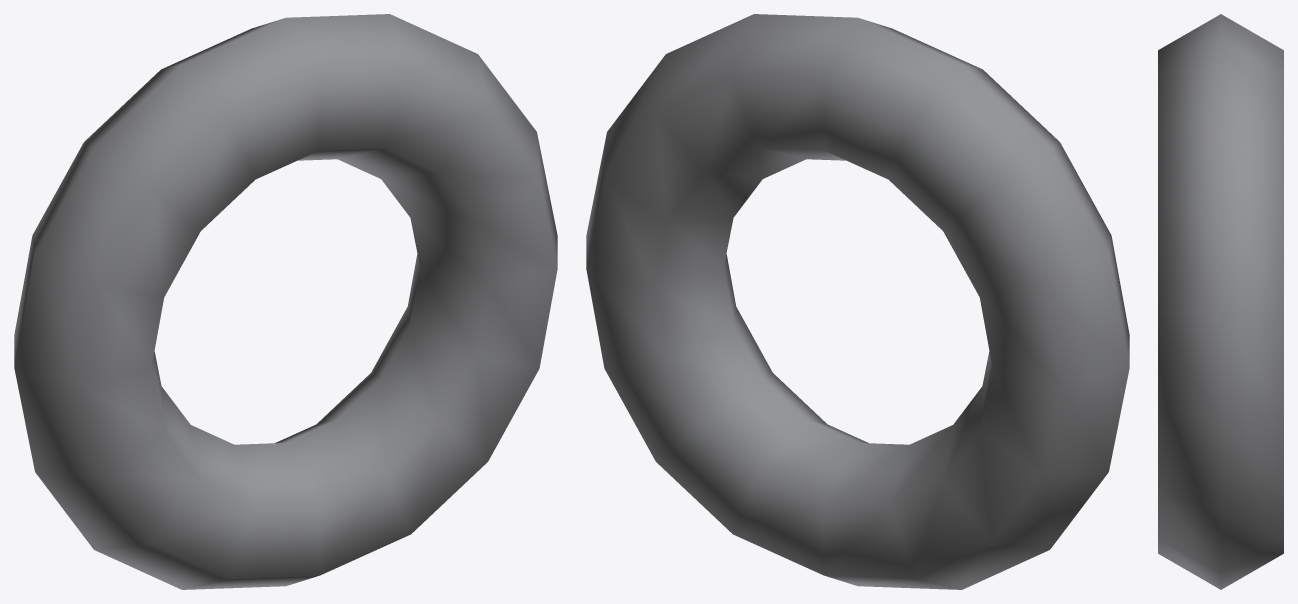
3 renders of one model, left to right at view 1: azimuth 30°, elevation 25°; view 2: azimuth 150°, elevation 25°; view 3: azimuth 270°, elevation 25°, orthographic. The views are drawn at different scales.
Bounding box in the file's own units: 0.896 × 0.896 × 0.1957.
